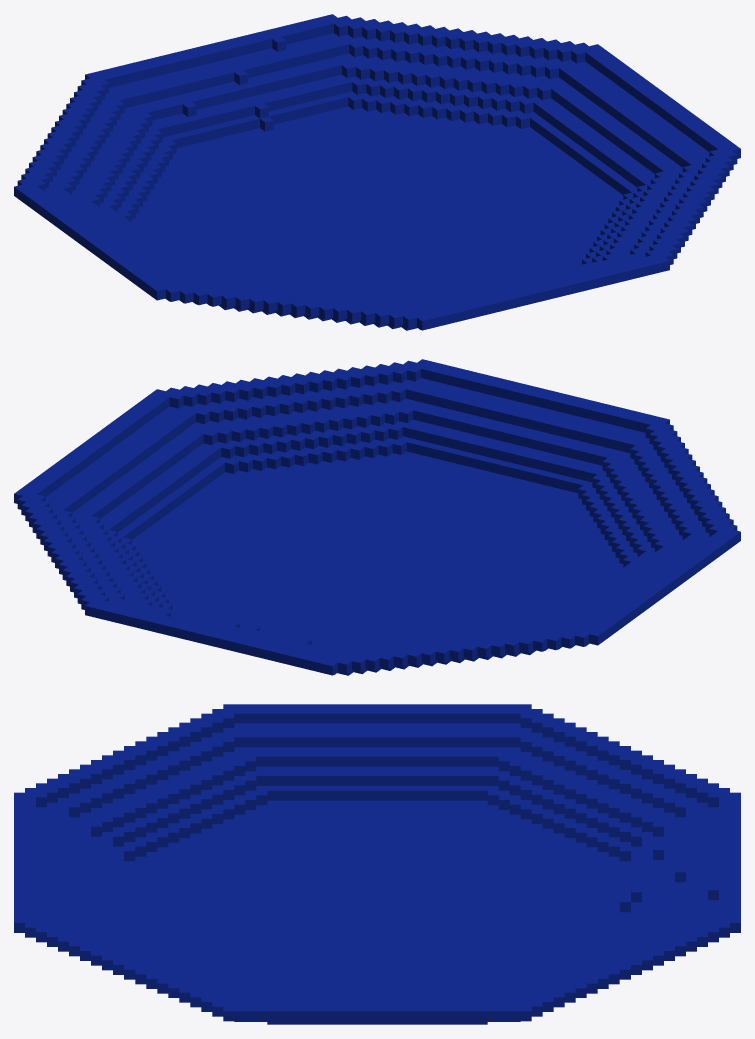
The model's file is plastic_plate.glb.
3 renders of one model, top to bottom at view 1: azimuth 30°, elevation 25°; view 2: azimuth 150°, elevation 25°; view 3: azimuth 270°, elevation 25°, orthographic. The views are drawn at different scales.
Parts seen in each view (by area): view 1: plastic_plate:compound; view 2: plastic_plate:compound; view 3: plastic_plate:compound.
Part boxes in pixels (x1=…): plastic_plate:compound: x1=14, y1=14, x2=740, y2=330; plastic_plate:compound: x1=14, y1=359, x2=740, y2=675; plastic_plate:compound: x1=14, y1=704, x2=740, y2=1024.
Bounding box in the file's own units: 0.264 × 0.024 × 0.264.
